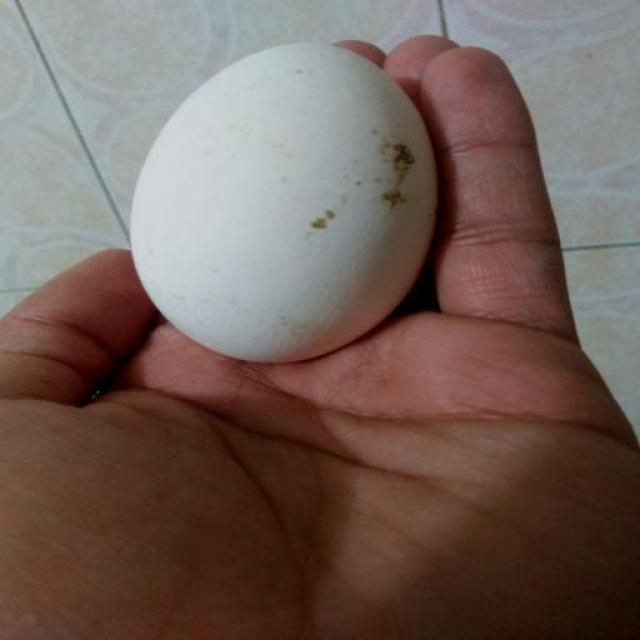telur: (128, 44, 434, 365)
